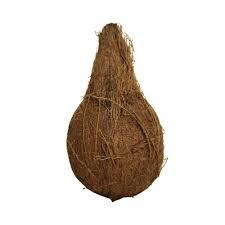coconut: (65, 21, 166, 202)
